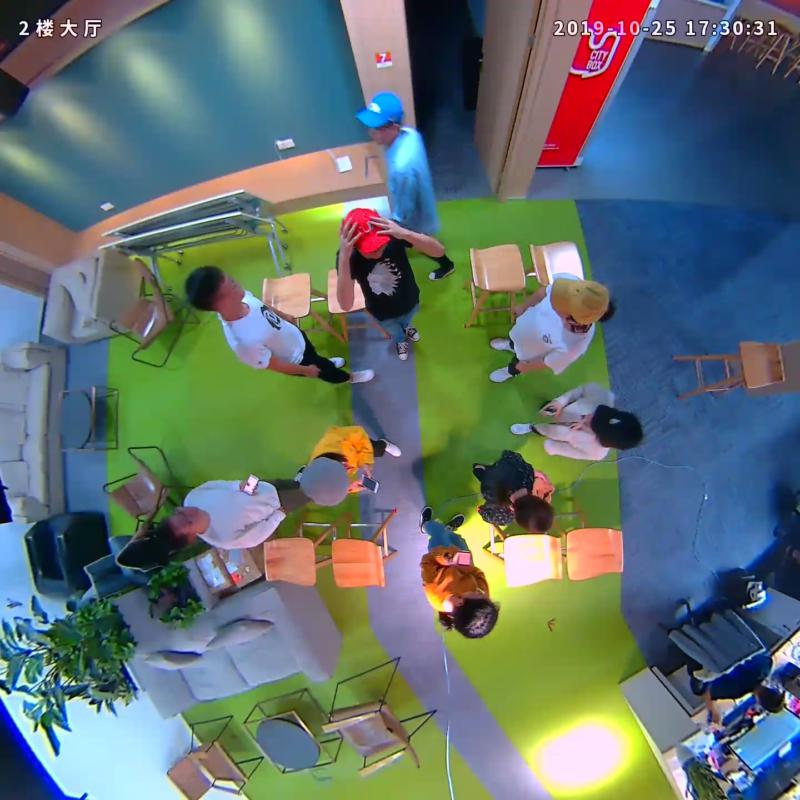head: (549, 276, 610, 327), (186, 266, 246, 313), (297, 454, 348, 508), (588, 404, 643, 451), (356, 93, 404, 146), (341, 208, 390, 259), (452, 590, 499, 640), (154, 505, 205, 547), (512, 494, 554, 533)
